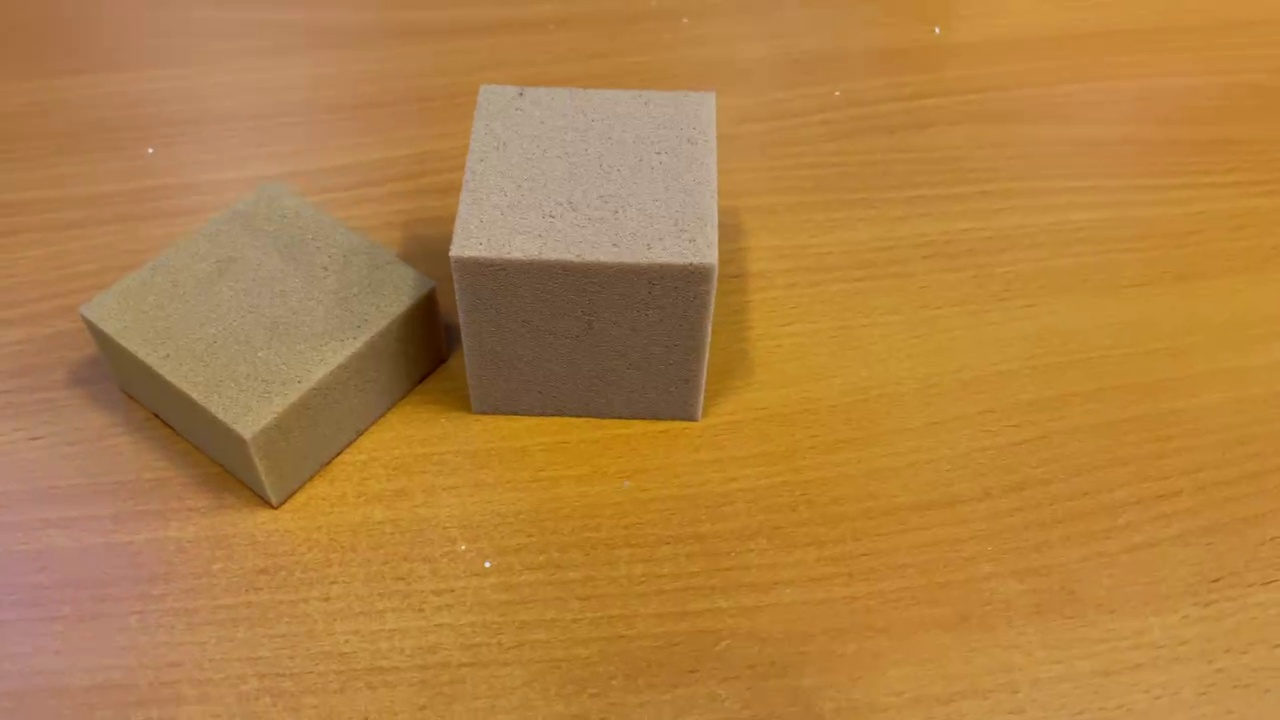Cube: (442, 71, 723, 425)
Cube_short: (67, 169, 458, 507)
